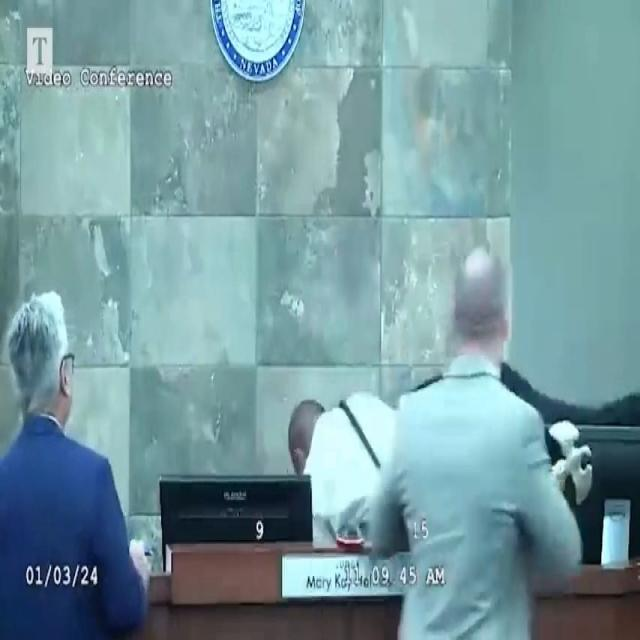fight: (264, 308, 640, 531)
non-fight: (356, 233, 583, 640), (0, 273, 147, 640)
